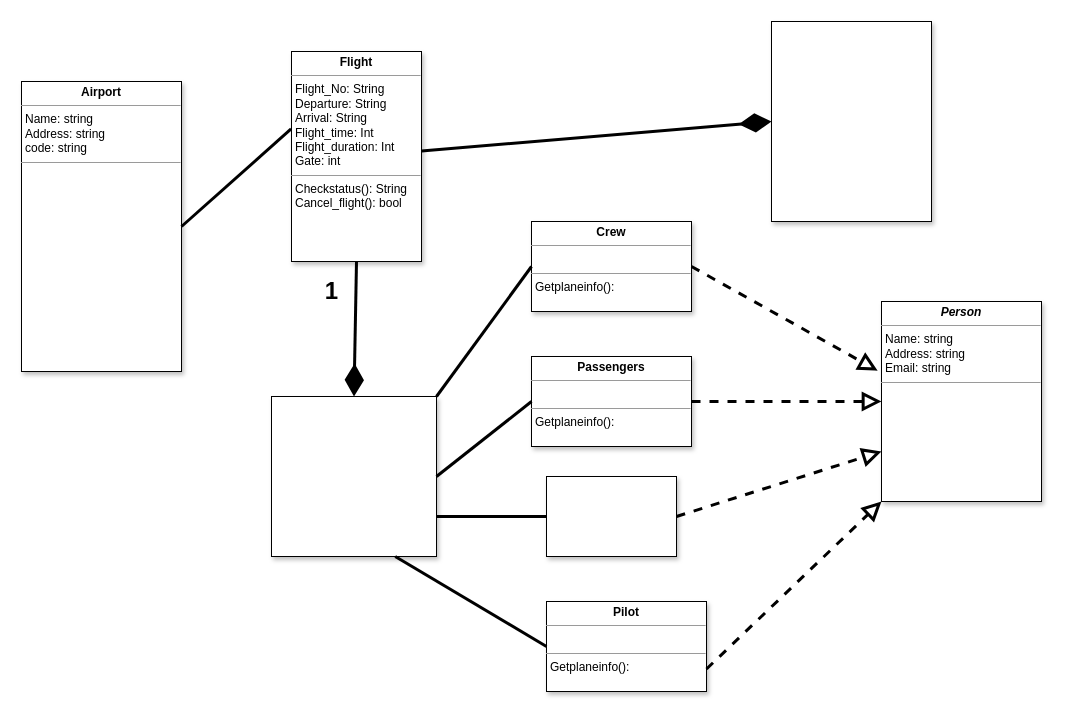
This 1065x716 diagram has some shape labels left out. Here are the shapes that lost their labels. From the top down, the centre of each, then its label:
At pixel 852 122: "Airline Name: string Address: string Bookflight():".
At pixel 354 478: "Plane No_of_plane: int type_of_plane: string Check_fuel(): string".
At pixel 612 518: "Admin Getplaneinfo:".
